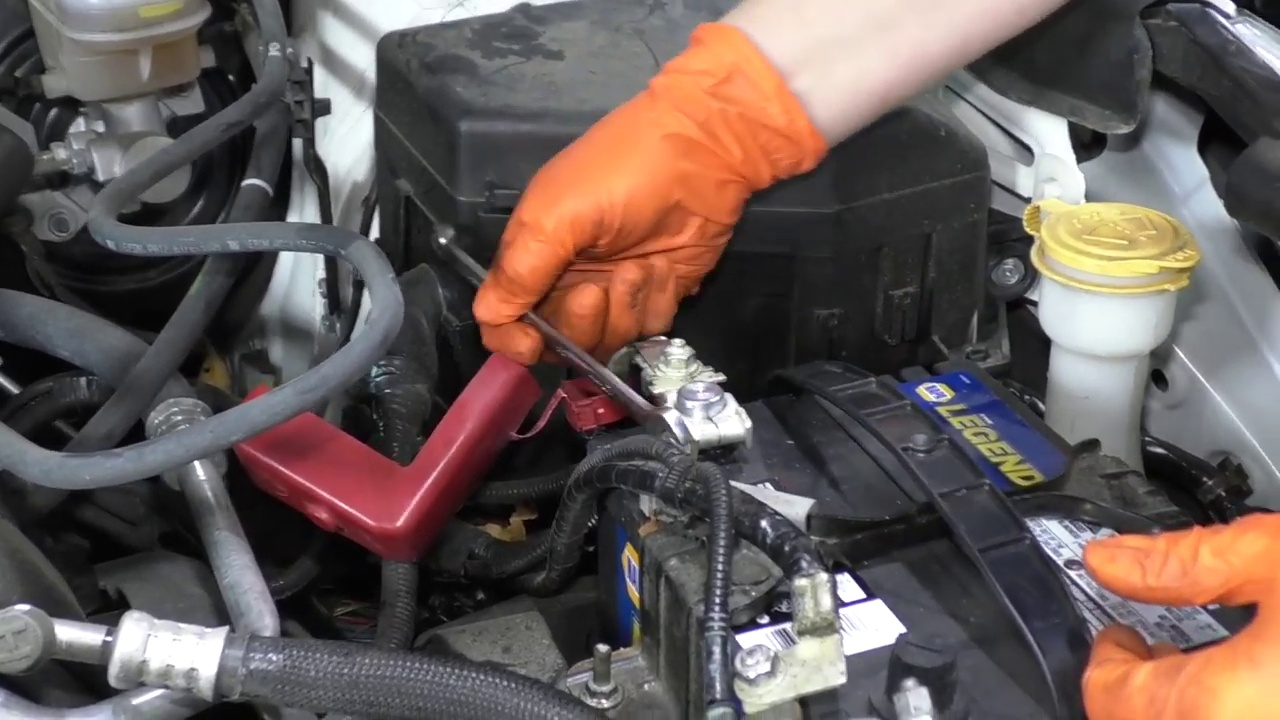battery: (580, 364, 1275, 720)
pos_connected: (451, 308, 773, 474)
pos_touched: (565, 222, 750, 459)
